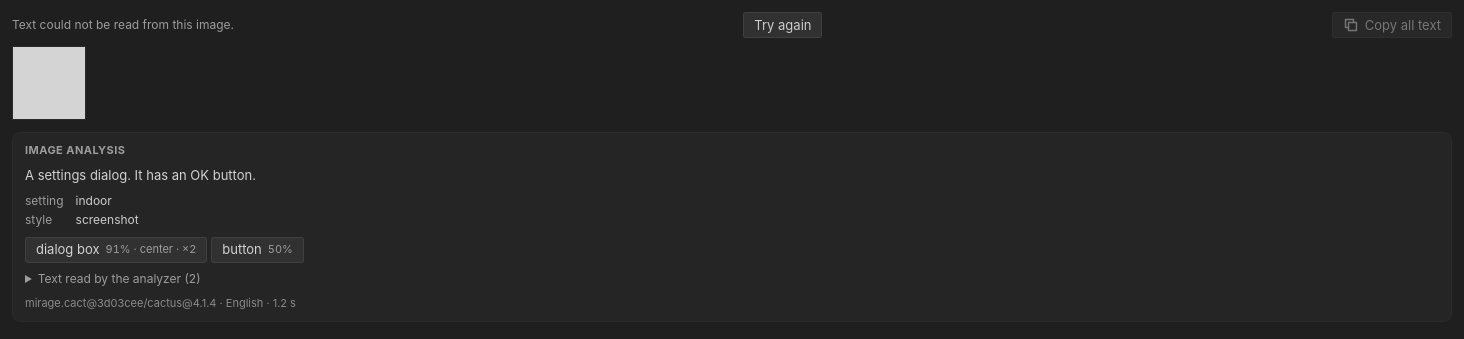
Scenario: ScreenshotPreview › reads the text again on "Try again" and shows progress until the details change
Check: the text "Text could not be read from this image." is shown, box [12, 17, 234, 33]
Step 1. Click the button "Try again" → [783, 25], box [743, 12, 822, 38]
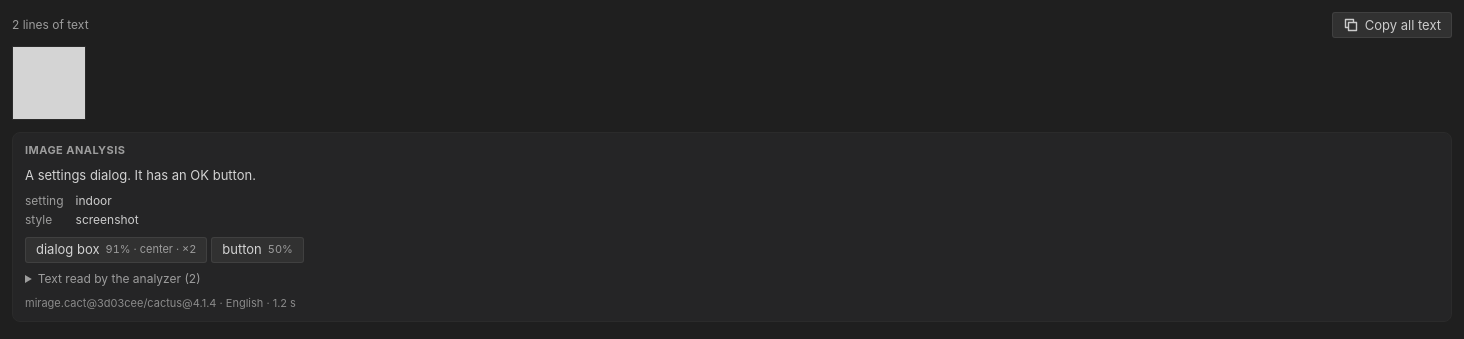
Check: the text "Reading text…" is shown, box [12, 17, 89, 33]
Check: the button "Try again" is gone
